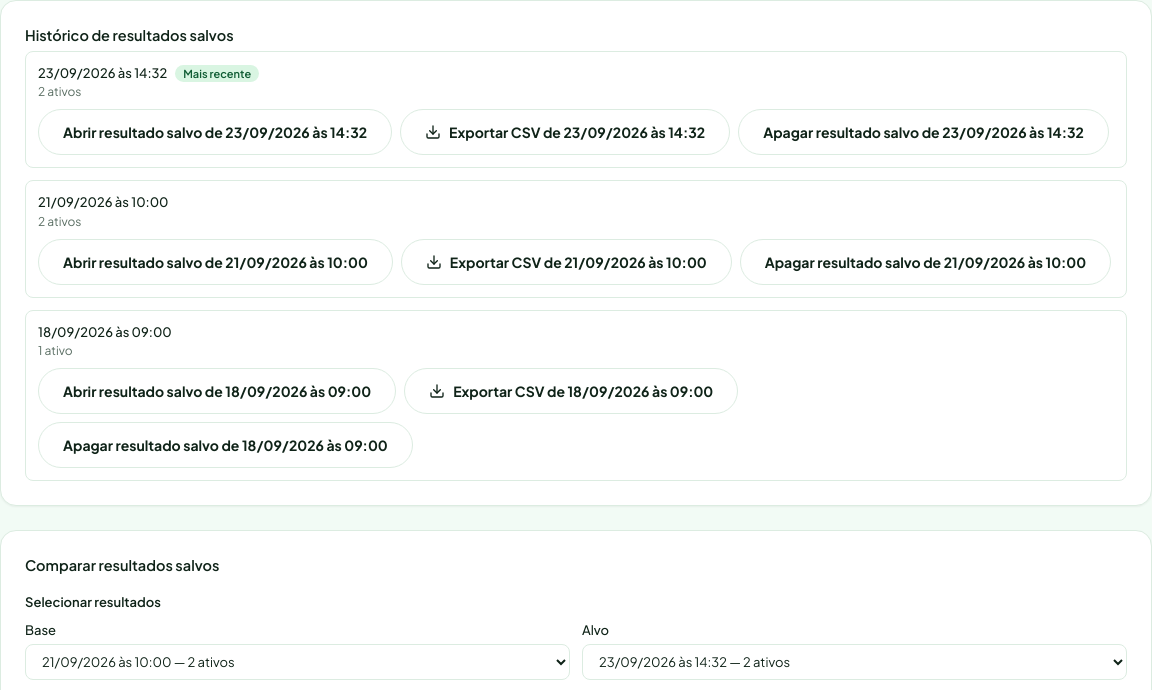
changing the selection › 12. selecting the same snapshot in both fields shows guidance, not a comparison
Expected: the dropdown labelled "Alvo" shows "23/09/2026 às 14:32 — 2 ativos", top-left (582, 644), bottom-right (1127, 680)
Select "23/09/2026 às 14:32 — 2 ativos" in the dropdown labelled "Base". click: x=298, y=662
box: top-left (25, 644), bottom-right (570, 680)
(page scrolled)
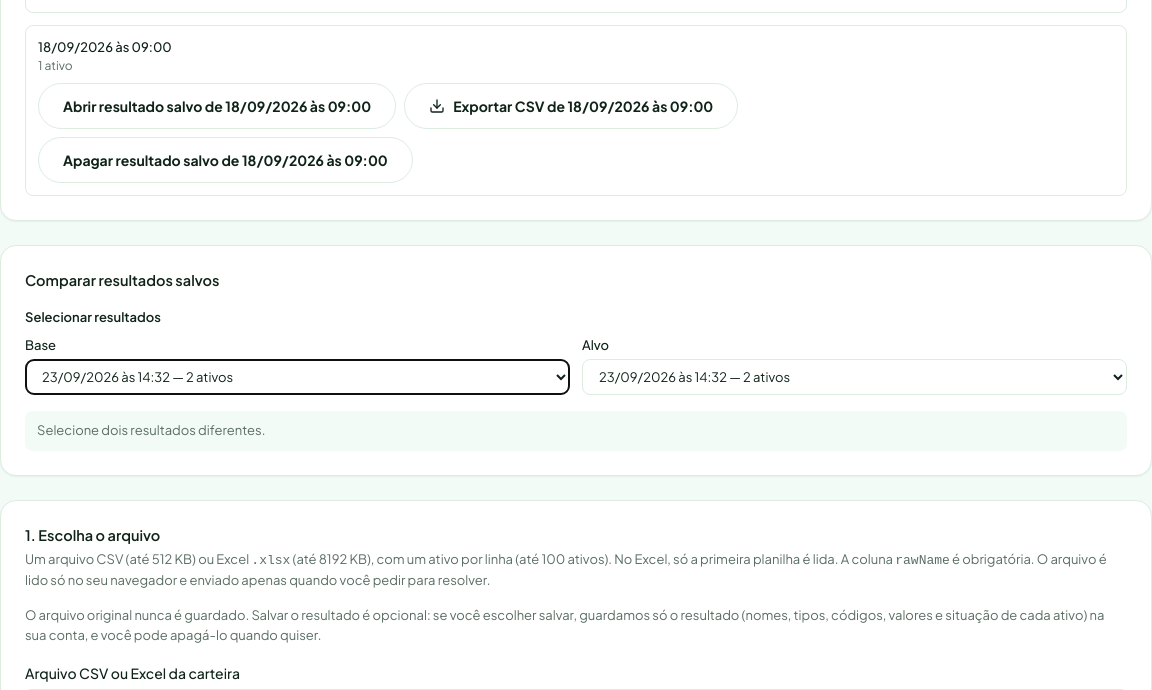
Result: the element "Comparar resultados salvos" shows "Selecione dois resultados diferentes." at top-left (37, 422), bottom-right (265, 438)
